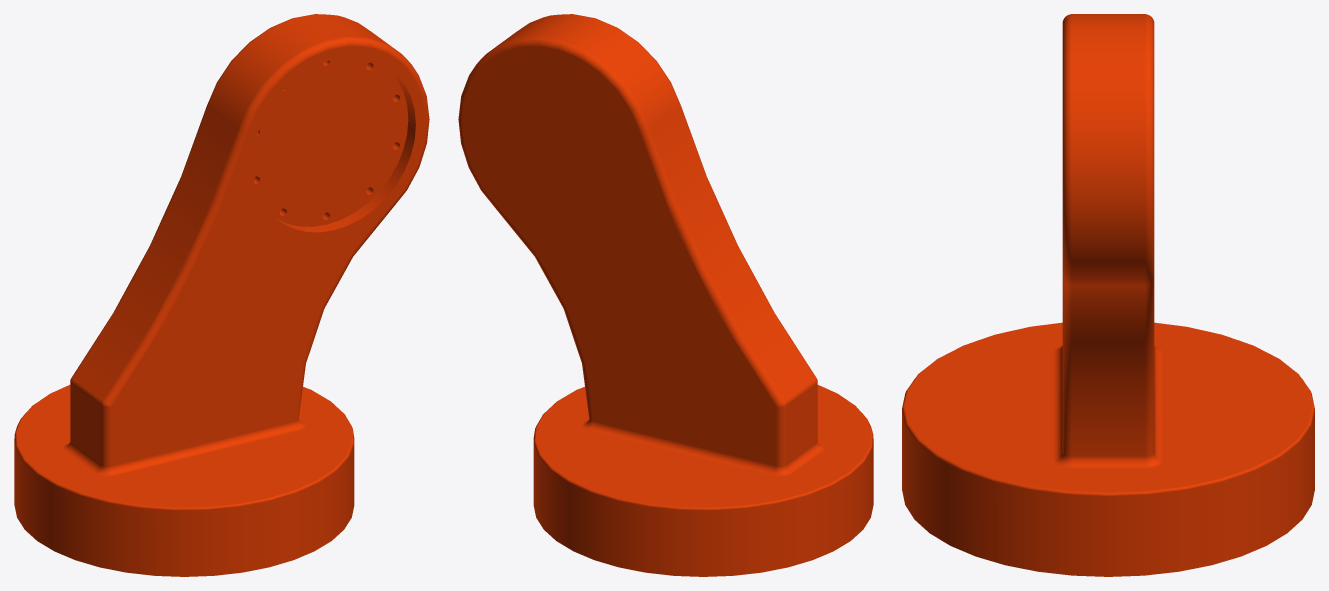
Rendered from arm 1.fbx.
The picture shows the model from 3 angles, left to right: view 1: azimuth 30°, elevation 25°; view 2: azimuth 150°, elevation 25°; view 3: azimuth 270°, elevation 25°; orthographic projection. The views are drawn at different scales.
Visible parts, largest first — view 1: base.001; view 2: base.001; view 3: base.001.
Part boxes in pixels (bbox=[...]): base.001: bbox=[14, 14, 429, 576]; base.001: bbox=[458, 14, 873, 576]; base.001: bbox=[902, 14, 1314, 576].
Size of the model in its own units: 57481 by 64989 by 45000.
